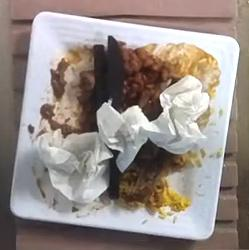beans: (108, 36, 168, 109)
rice_mix: (118, 139, 189, 209)
